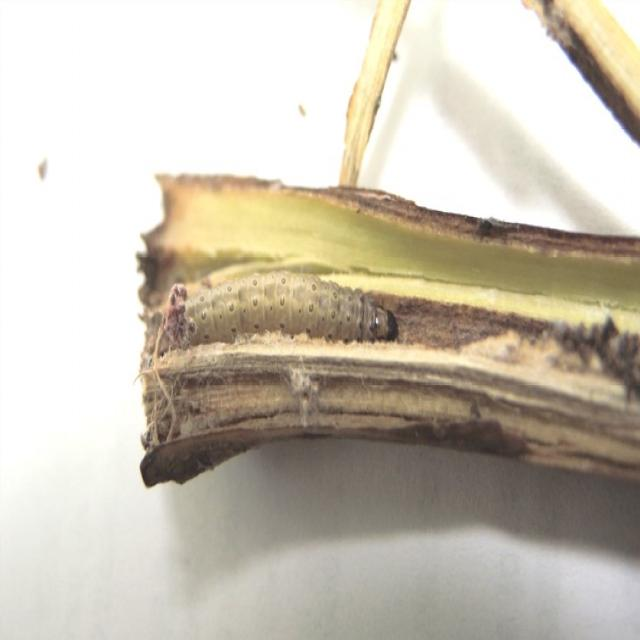cornborer-Larva-: (146, 254, 417, 398)
